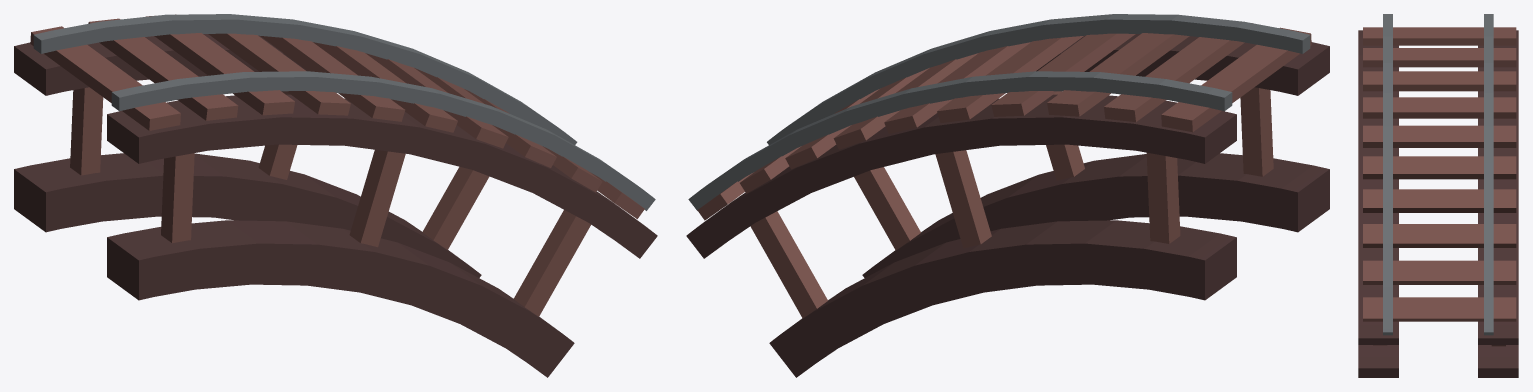
File: DarkRoseWoodMechMedium1_5GaugeFall1.fbx
3 views of the same model, side by side, from view 1: azimuth 30°, elevation 25°; view 2: azimuth 150°, elevation 25°; view 3: azimuth 270°, elevation 25° (orthographic). The views are drawn at different scales.
Visible parts, largest first — view 1: DarkRoseWoodMechMedium1_5GaugeFall1; view 2: DarkRoseWoodMechMedium1_5GaugeFall1; view 3: DarkRoseWoodMechMedium1_5GaugeFall1.
Part boxes in pixels (x1,y1,x2,y2): DarkRoseWoodMechMedium1_5GaugeFall1: (14,14,657,377); DarkRoseWoodMechMedium1_5GaugeFall1: (686,14,1329,377); DarkRoseWoodMechMedium1_5GaugeFall1: (1358,14,1518,377).
Bounding box in the file's own units: 658 × 429 × 265.
